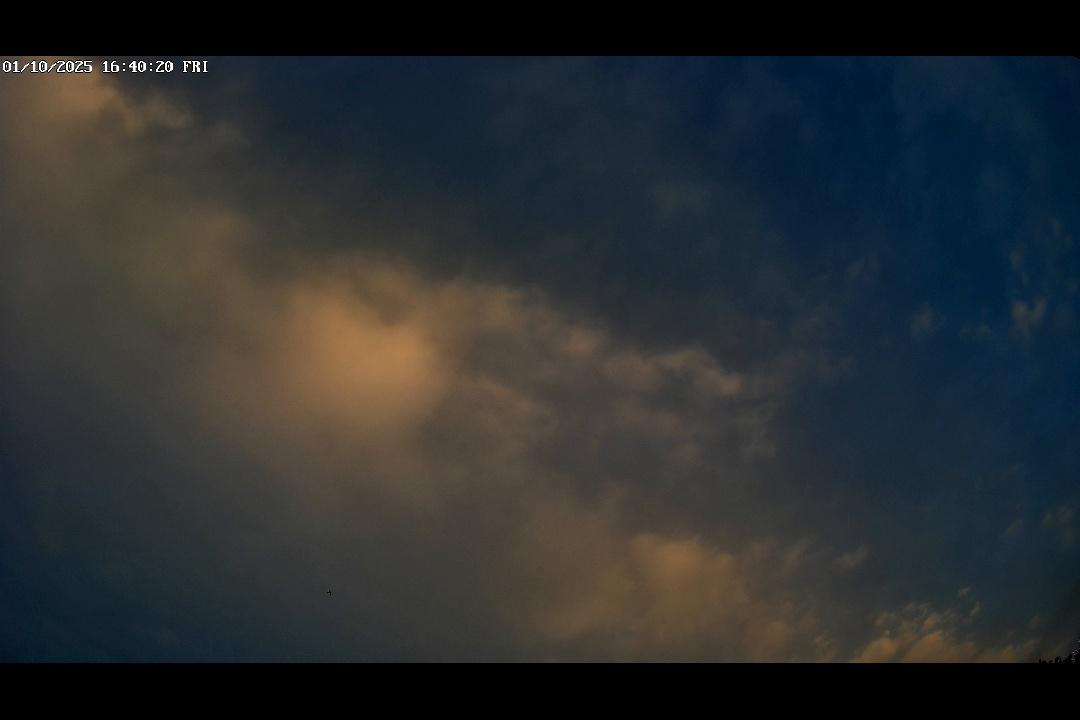Plane: (321, 587, 339, 597)
